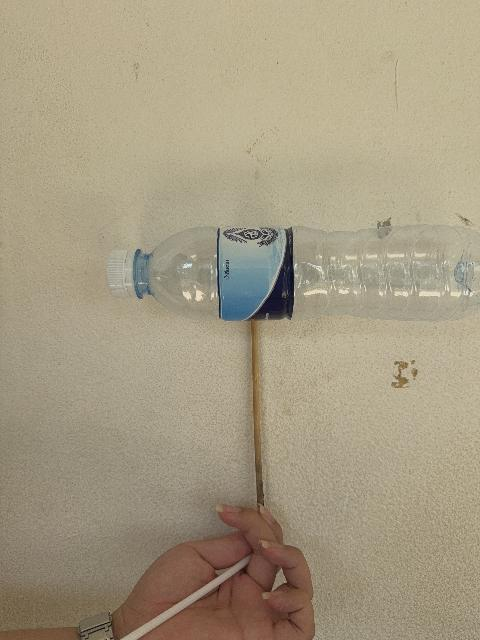bottle: (107, 226, 479, 320)
